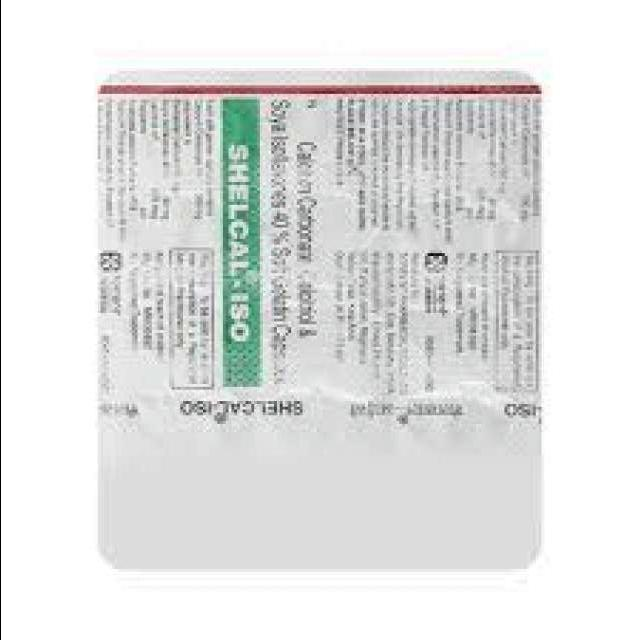authentic: (86, 63, 552, 574)
